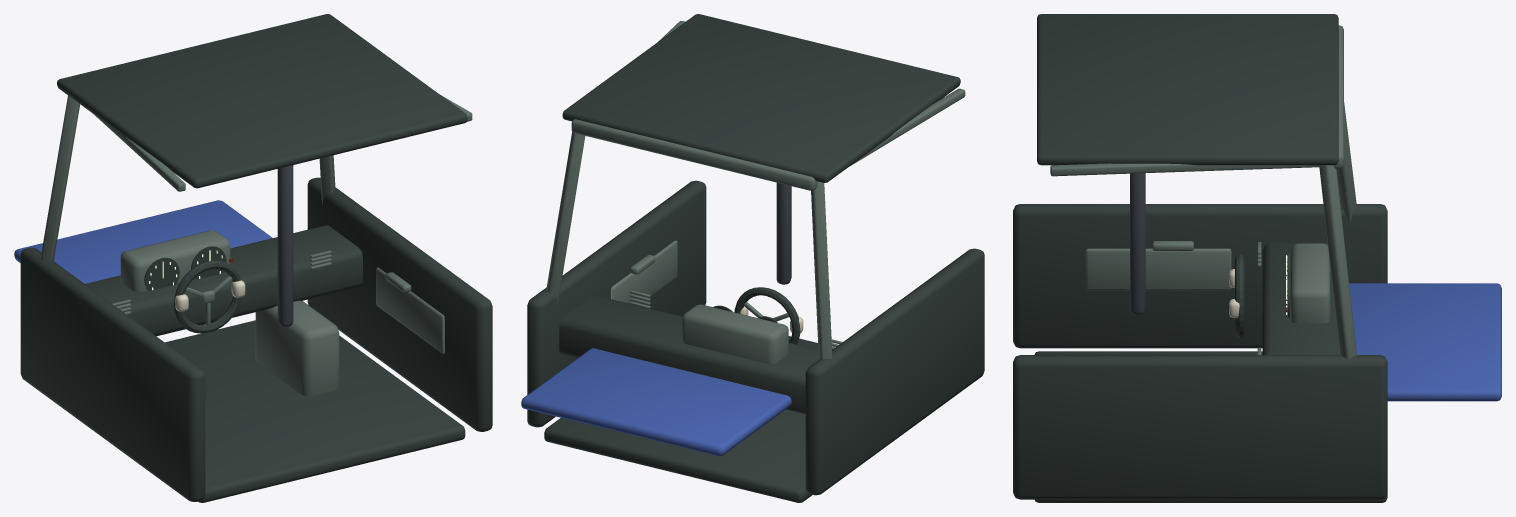
File: rally-cockpit.glb
3 views of the same model, side by side, from view 1: azimuth 30°, elevation 25°; view 2: azimuth 150°, elevation 25°; view 3: azimuth 270°, elevation 25° (orthographic). The views are drawn at different scales.
Visible parts, largest first — view 1: rally_clay_charcoal.003, rally_clay_trim.003, bonnet, arm_left_fore, wheel_rim; view 2: rally_clay_charcoal.003, rally_clay_trim.003, bonnet, arm_left_fore, wheel_rim; view 3: rally_clay_charcoal.003, rally_clay_trim.003, bonnet, arm_left_fore, wheel_rim.
Boxes of the visible parts, x1=… form: rally_clay_charcoal.003: x1=20, y1=14, x2=492, y2=502; rally_clay_trim.003: x1=40, y1=95, x2=472, y2=396; bonnet: x1=14, y1=200, x2=272, y2=283; arm_left_fore: x1=277, y1=165, x2=293, y2=326; wheel_rim: x1=174, y1=260, x2=241, y2=333; rally_clay_charcoal.003: x1=527, y1=14, x2=984, y2=502; rally_clay_trim.003: x1=546, y1=21, x2=965, y2=364; bonnet: x1=521, y1=348, x2=791, y2=456; arm_left_fore: x1=776, y1=182, x2=791, y2=284; wheel_rim: x1=734, y1=287, x2=800, y2=344; rally_clay_charcoal.003: x1=1013, y1=14, x2=1387, y2=502; rally_clay_trim.003: x1=1050, y1=25, x2=1356, y2=358; bonnet: x1=1349, y1=283, x2=1501, y2=401; arm_left_fore: x1=1130, y1=173, x2=1145, y2=314; wheel_rim: x1=1235, y1=254, x2=1244, y2=338.
Bounding box in the file's own units: 1.82 × 1.86 × 2.35.
